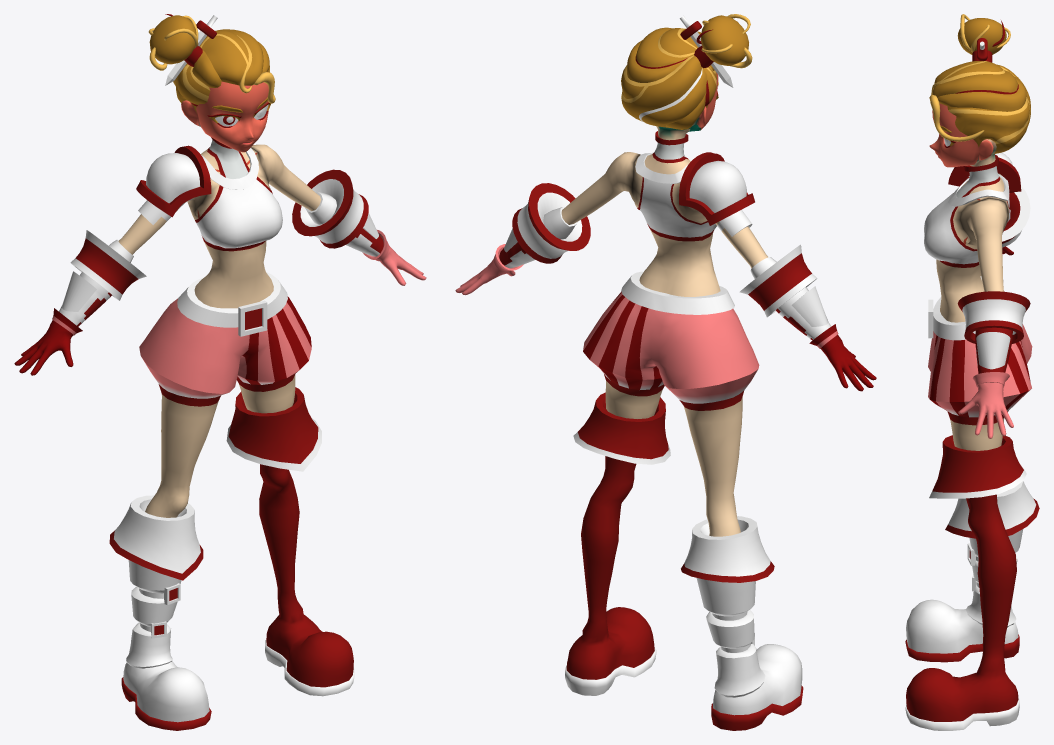
File: KenaUV.fbx
3 renders of one model, left to right at view 1: azimuth 30°, elevation 25°; view 2: azimuth 150°, elevation 25°; view 3: azimuth 270°, elevation 25°, orthographic. The views are drawn at different scales.
Parts seen in each view (by area): view 1: KENA_MESH; view 2: KENA_MESH; view 3: KENA_MESH.
Boxes of the visible parts, x1,y1,x2,y2 form: KENA_MESH: (14, 14, 426, 730); KENA_MESH: (455, 14, 876, 730); KENA_MESH: (905, 14, 1039, 730).
Bounding box in the file's own units: 106 × 170 × 32.17.
